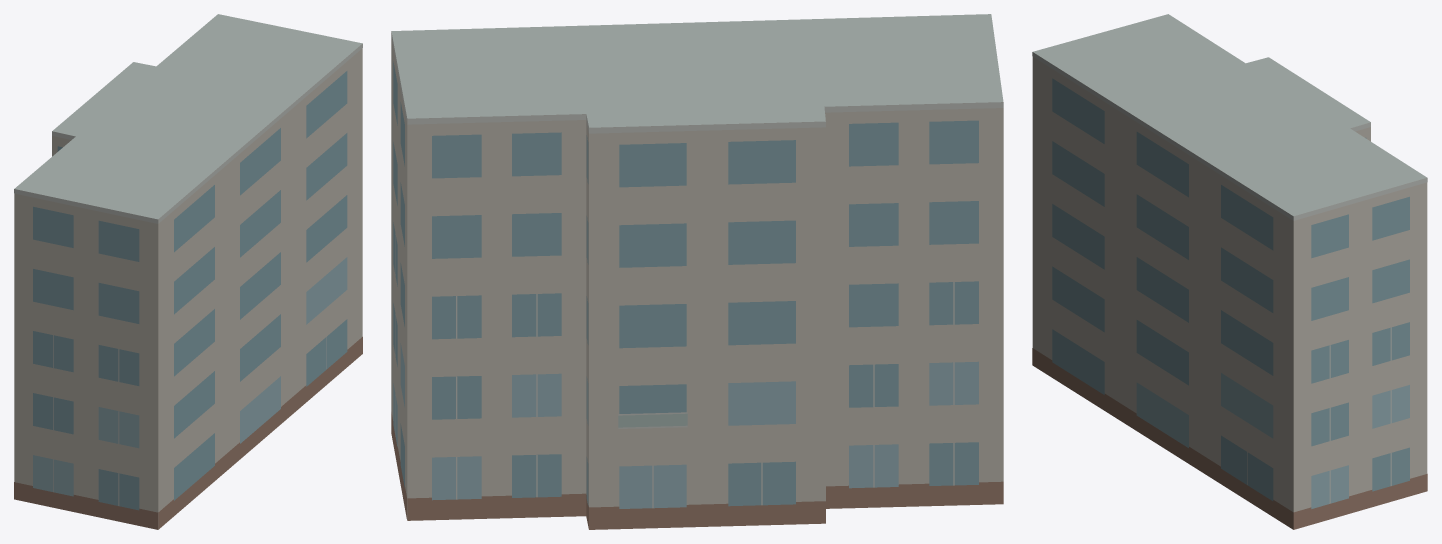
Rendered from survey-upis-32606083.glb.
3 views of the same model, side by side, from view 1: azimuth 30°, elevation 25°; view 2: azimuth 150°, elevation 25°; view 3: azimuth 270°, elevation 25° (orthographic). The views are drawn at different scales.
Visible parts, largest first — view 1: survey-upis-32606083.tmp; view 2: survey-upis-32606083.tmp; view 3: survey-upis-32606083.tmp.
Part boxes in pixels (left/top/right/bottom): survey-upis-32606083.tmp: left=14, top=14, right=362, bottom=529; survey-upis-32606083.tmp: left=391, top=14, right=1003, bottom=529; survey-upis-32606083.tmp: left=1032, top=14, right=1427, bottom=529.
Size of the model in its own units: 22.98 by 16.6 by 18.96.
